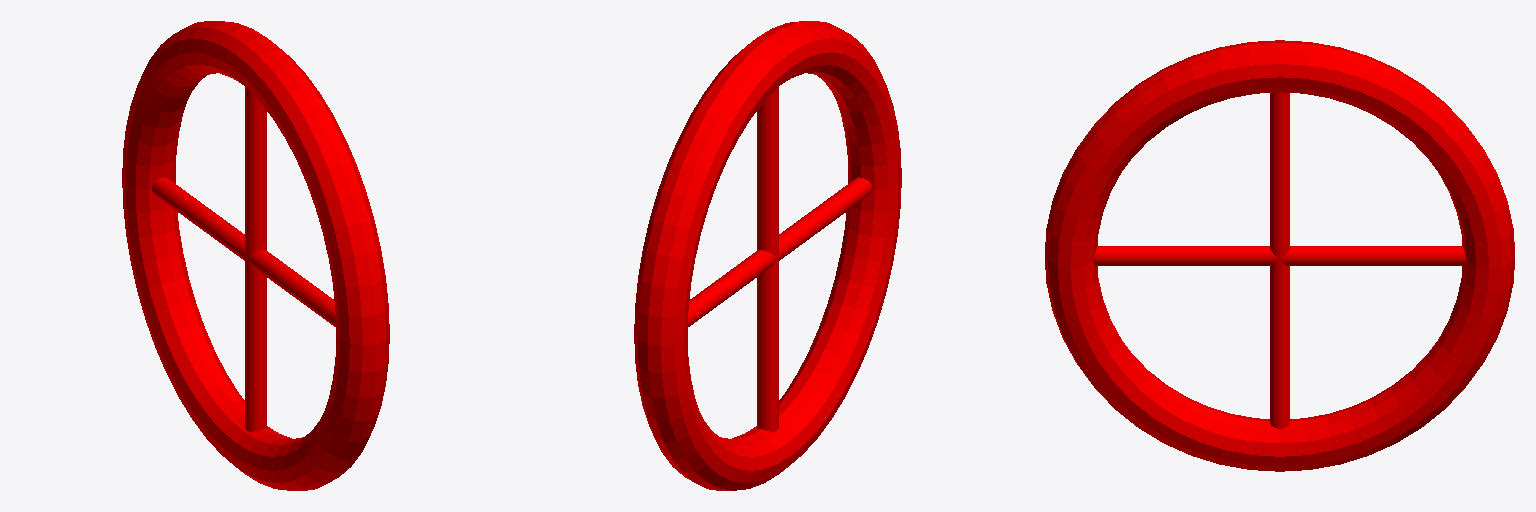
The robot description file, URDF, robot "valve":
<?xml version="1.0" ?>
<robot name="valve">
	<link name="base_link" />

	<link name="valve">
		<inertial>
			<origin xyz="0 0 0" rpy="0 0 0" />
			<mass value="1."/>
			<inertia ixx="1" ixy="0" ixz="0"
			iyy="1" iyz="0"
			izz="1" />
		</inertial>
		<visual>
			<geometry>
				<mesh filename="package://mc_int_obj_description/meshes/valve/valve.stl" />
			</geometry>
				<material name="Material">
				<color rgba="1.0 0.0 0.0 1" />
			</material>
		</visual>
	</link>

	<joint name="valve" type="continuous">
		<axis xyz="1 0 0"/>
		<limit effort="0" velocity="100" />
		<parent link="base_link" />
		<child link="valve" />
		<origin rpy="0.0 0.0 0.0" xyz="0.0 0.0 0.0" />
	</joint>

</robot>

--- What the picture shows (computed from the rendered views, not written in the file) ---
The picture shows the robot from 3 angles, left to right: view 1: azimuth 30°, elevation 25°; view 2: azimuth 150°, elevation 25°; view 3: azimuth 270°, elevation 25°; orthographic projection.
Model valve with 2 links and 1 joints (1 continuous), rooted at base_link, posed all joints at 0.
Visible links, largest first — view 1: valve; view 2: valve; view 3: valve.
Boxes of the visible links, x1,y1,x2,y2 form: valve: (122, 21, 389, 490); valve: (634, 21, 901, 490); valve: (1045, 40, 1514, 471).
Bounding box of the posed robot: 0.05 × 0.45 × 0.45 m (x, y, z).
Meshes: 1 distinct files referenced, 1 mesh visuals loaded (1 binary STL).